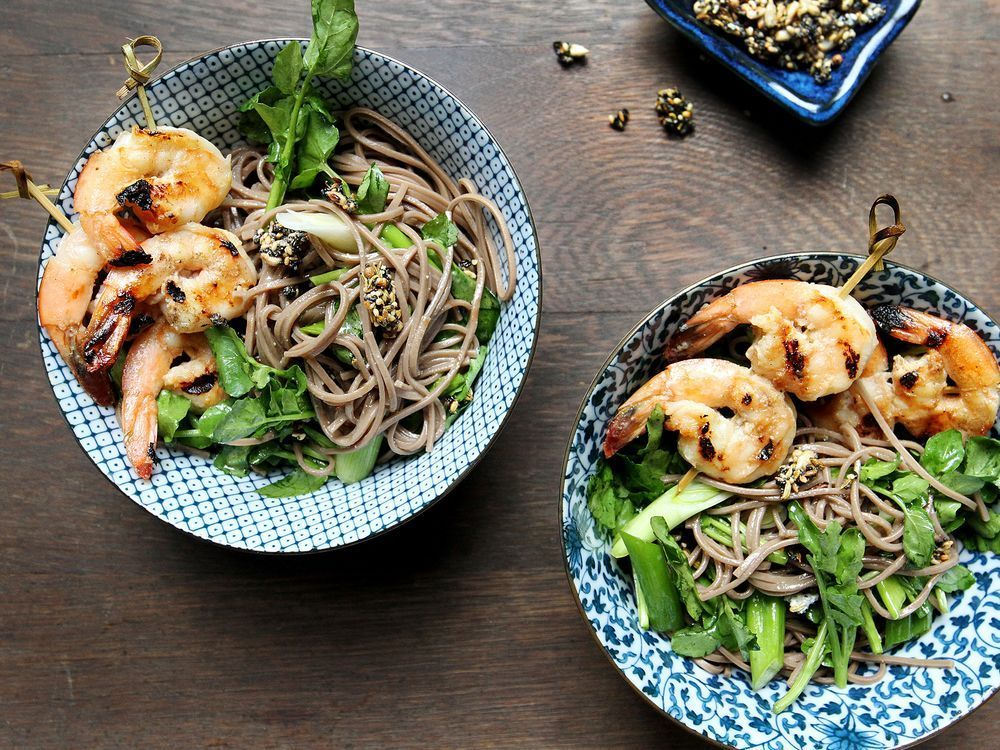Soba: (218, 126, 516, 495), (643, 444, 983, 700)
